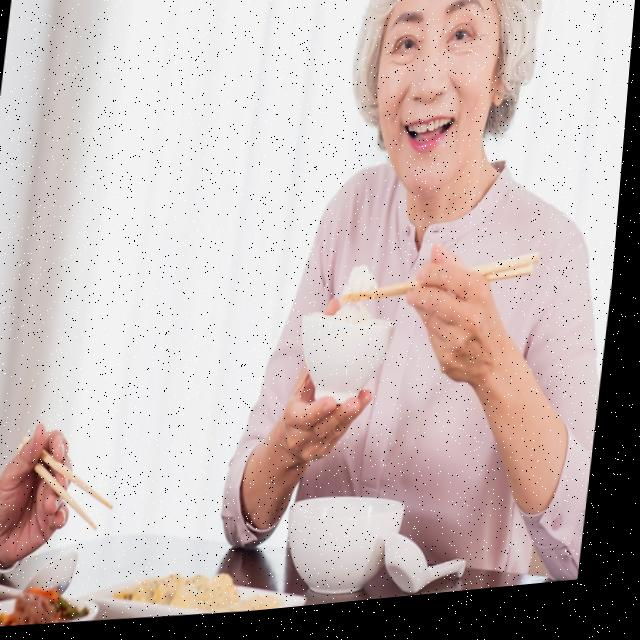eating-person: (157, 0, 640, 625)
